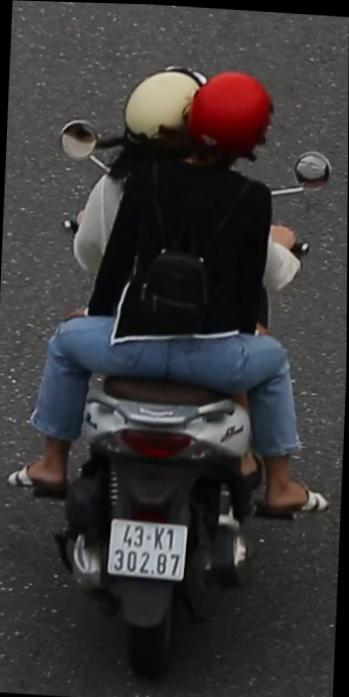LP: (104, 510, 192, 584)
helmet: (180, 60, 284, 180), (113, 60, 209, 183)
